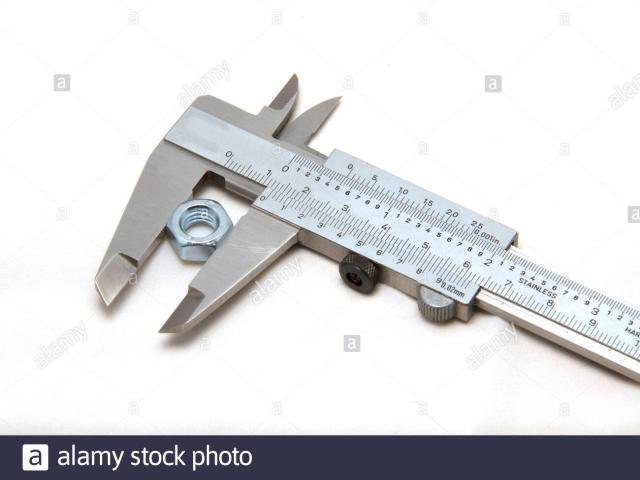Calipers: (95, 75, 640, 381)
